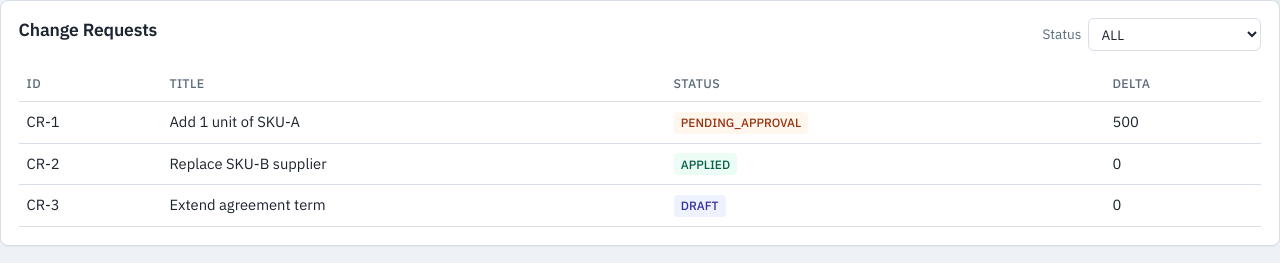
CrListComponent › narrows the table by status filter
Step 1. Select "PENDING_APPROVAL" in the dropdown with class "cr-list__filter" → (1175, 35), box [1088,18,1261,51]
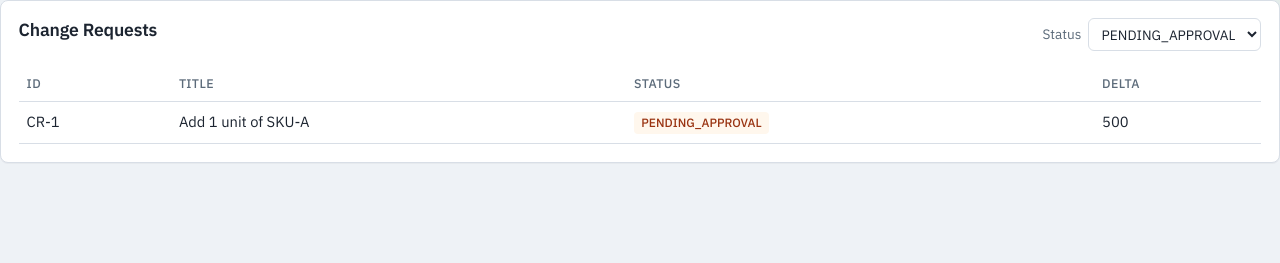
Expected: the row with class "cr-list__row" shows "CR-1", [27,112,60,131]
Expected: the number of rows with class "cr-list__row" is 1, [19,102,1261,143]
